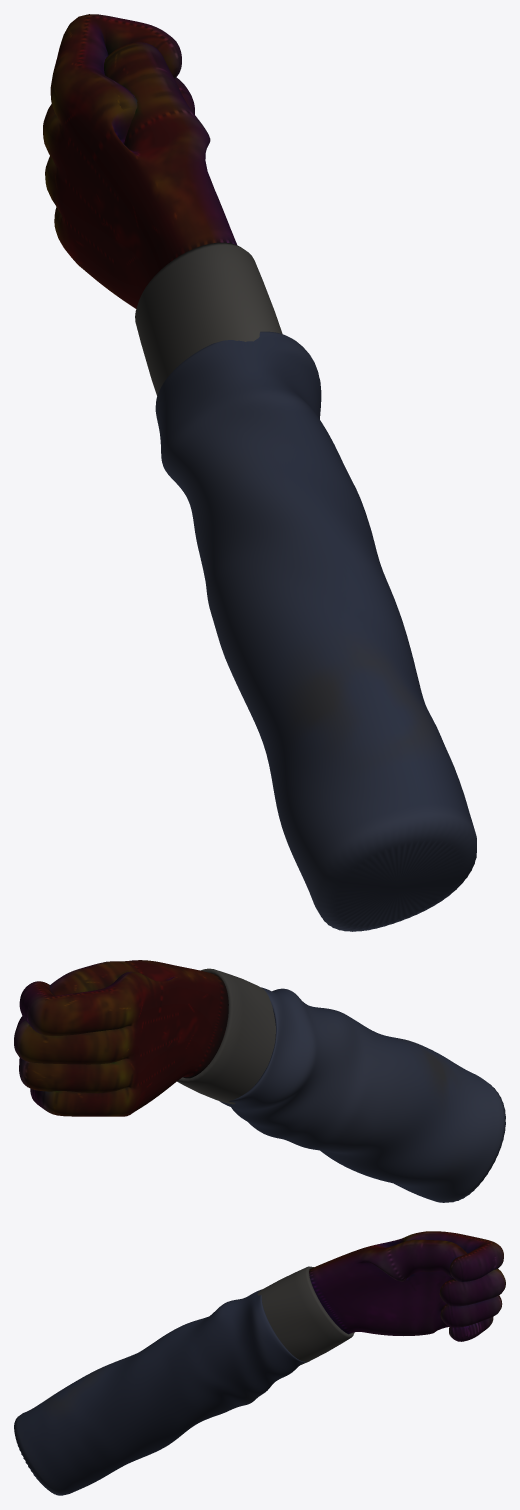
The model's file is fp_hand_L_small.glb.
3 views of the same model, one above another, from view 1: azimuth 30°, elevation 25°; view 2: azimuth 150°, elevation 25°; view 3: azimuth 270°, elevation 25° (orthographic). The views are drawn at different scales.
Parts seen in each view (by area): view 1: fp_hand_L_small; view 2: fp_hand_L_small; view 3: fp_hand_L_small.
Part boxes in pixels (bbox=[...]): fp_hand_L_small: bbox=[43, 14, 476, 931]; fp_hand_L_small: bbox=[14, 960, 505, 1202]; fp_hand_L_small: bbox=[14, 1231, 505, 1495].
Bounding box in the file's own units: 0.1327 × 0.257 × 0.4013.
3 materials, 1 textured.
